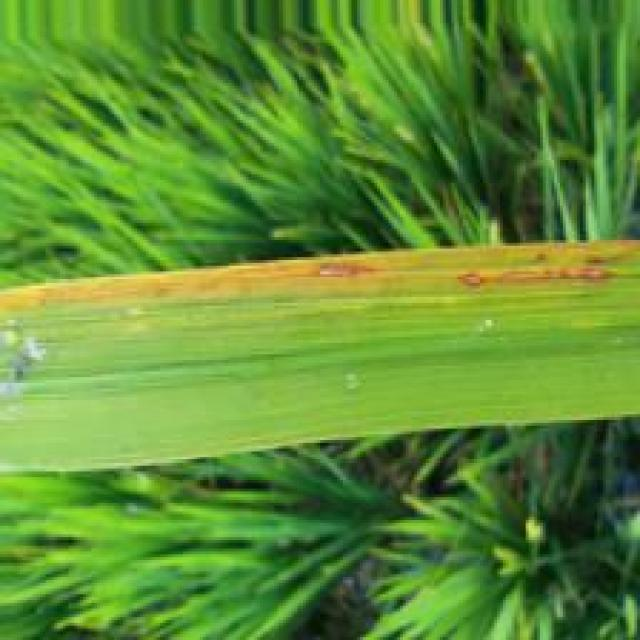Leaf_Blast: (448, 260, 617, 292), (308, 261, 381, 282)
